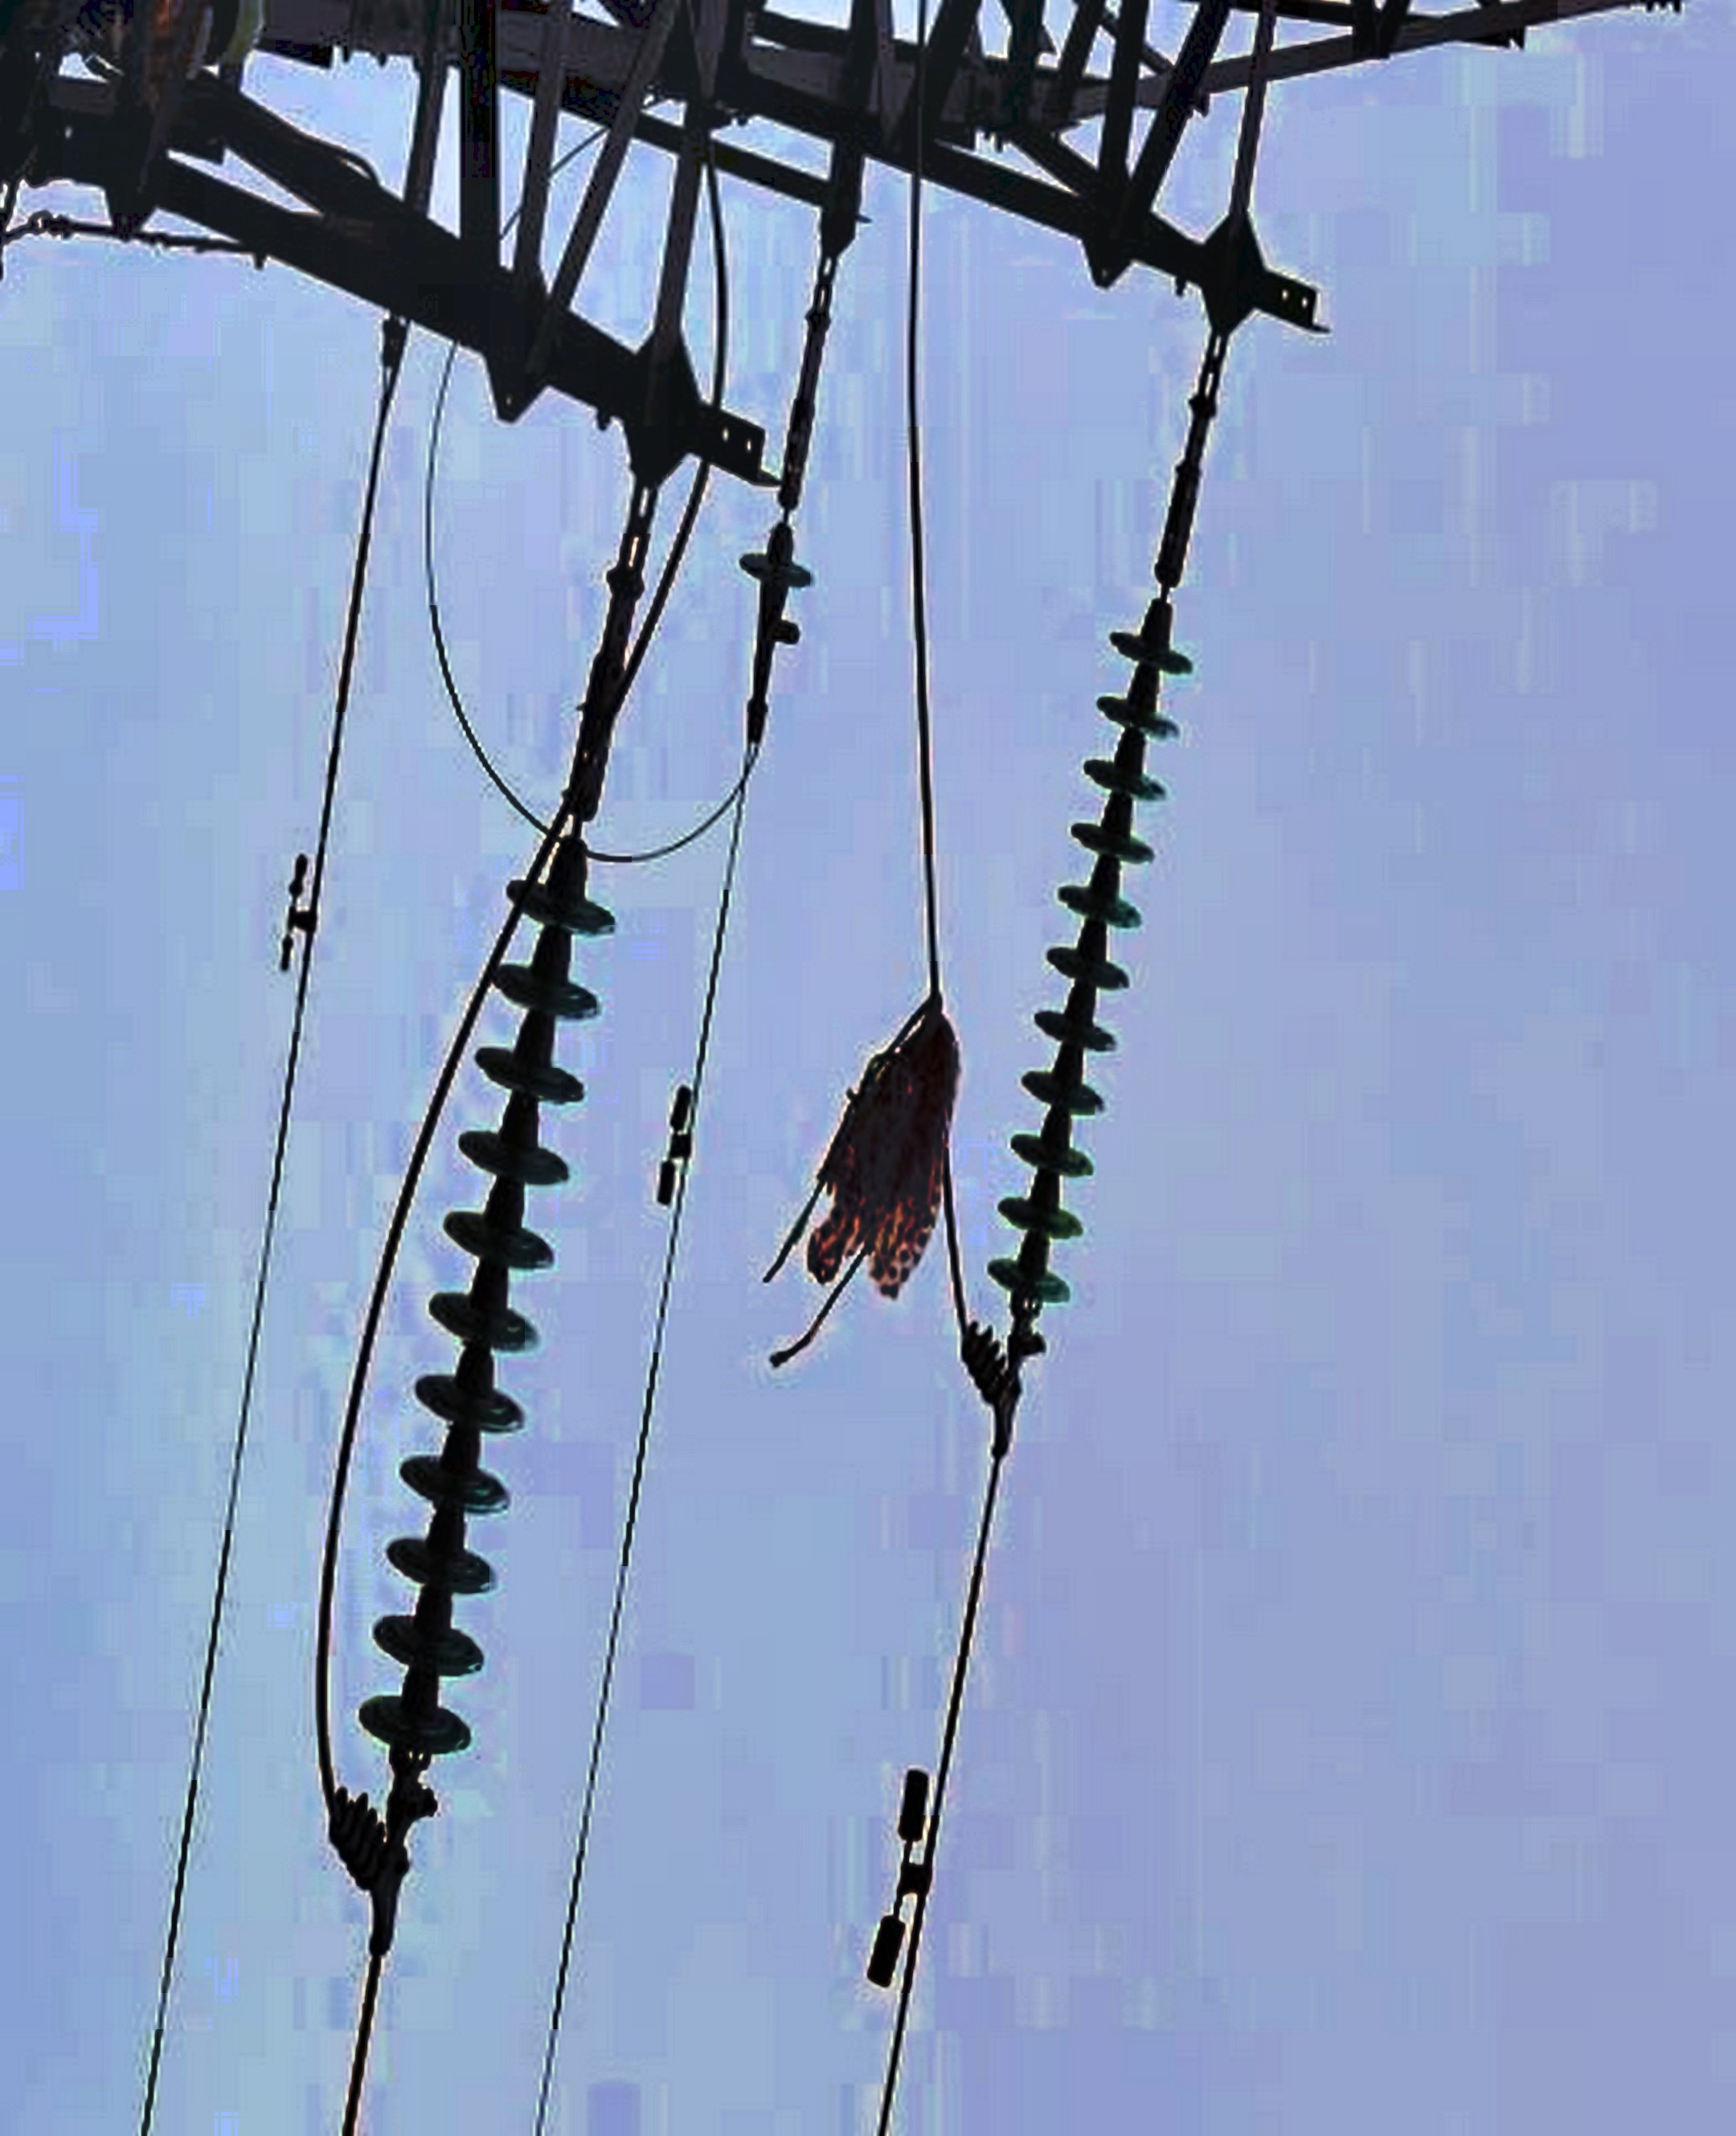wire foreign body: (795, 944, 997, 1417)
